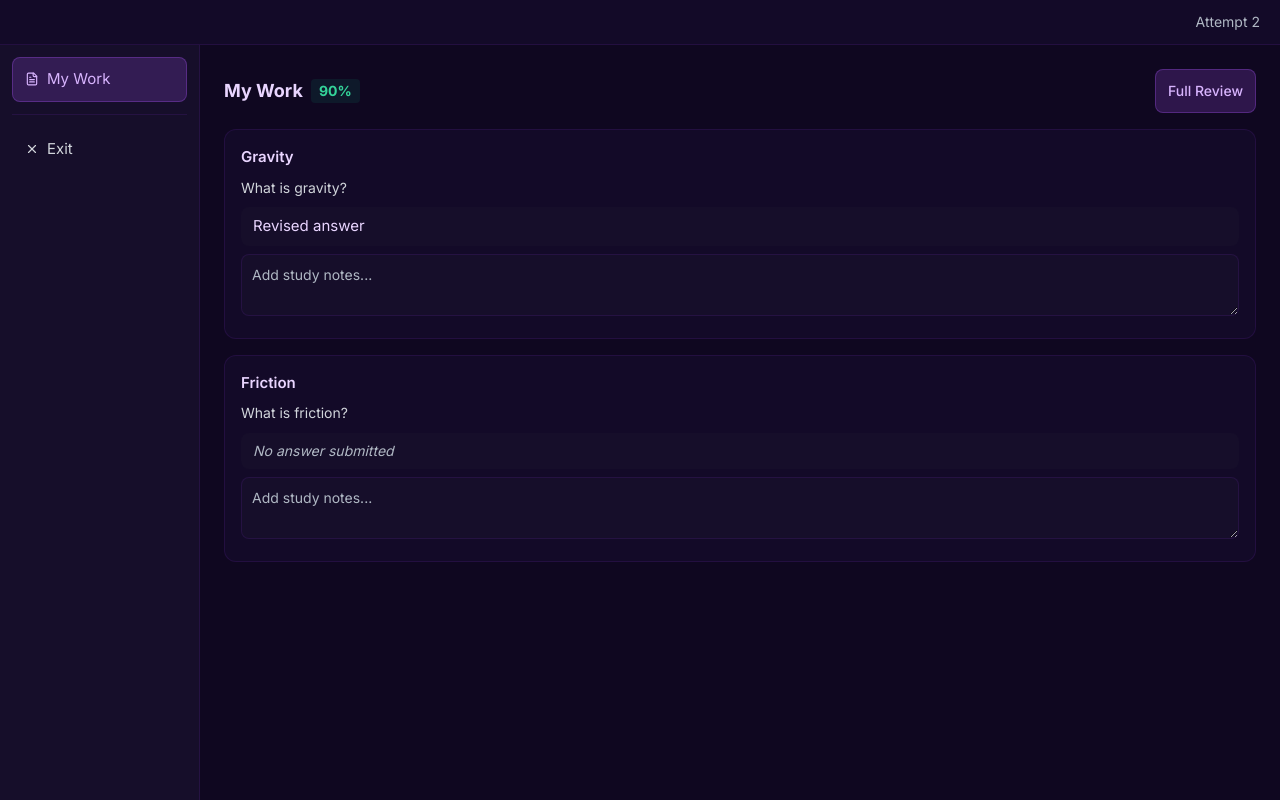
Test: MyWorkPanel attempt selector › shows "No answer submitted" for blocks unanswered in the selected attempt
Click the button "My Work" at x=100, y=79, box x1=12 y1=57 x2=187 y2=102
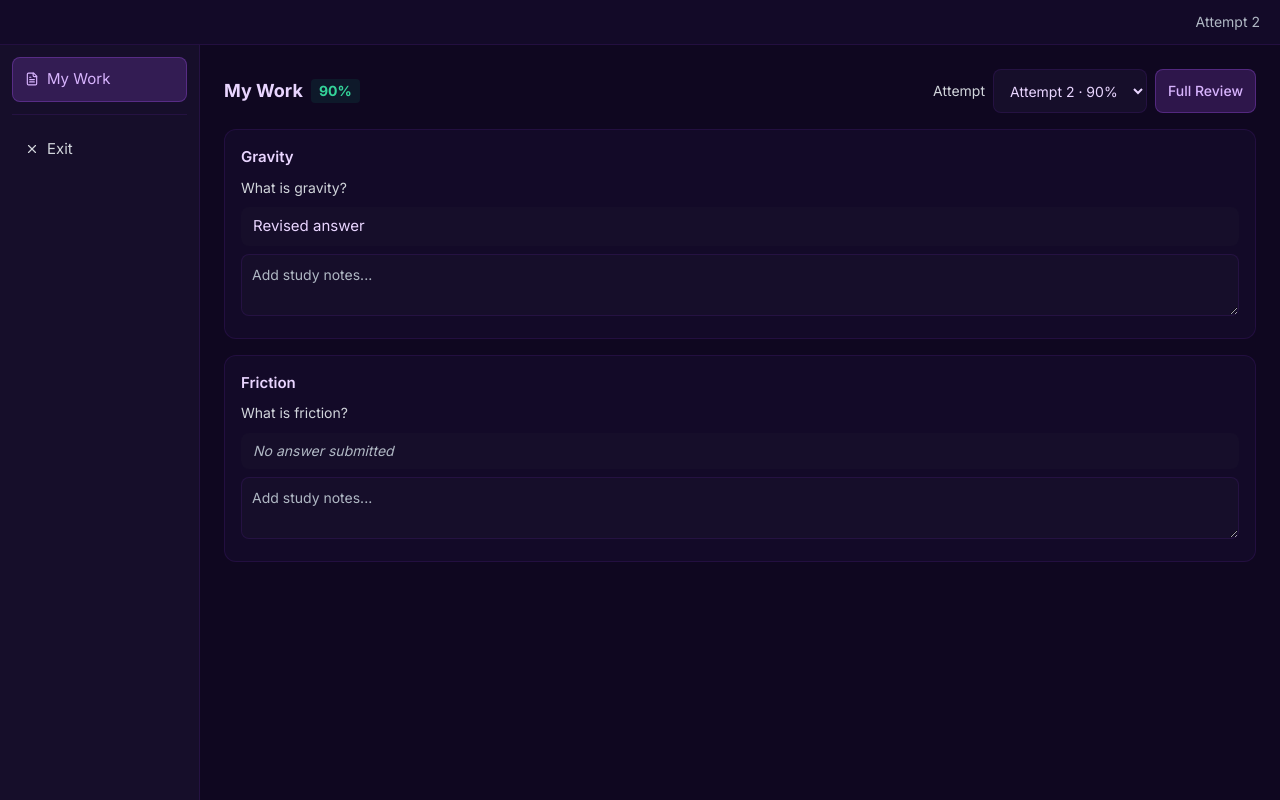
Expected: the text "Revised answer" is shown, x1=253 y1=216 x2=365 y2=235
Select "Attempt 1 · 55%" in the dropdown at x=1070, y=91, box x1=993 y1=69 x2=1147 y2=113
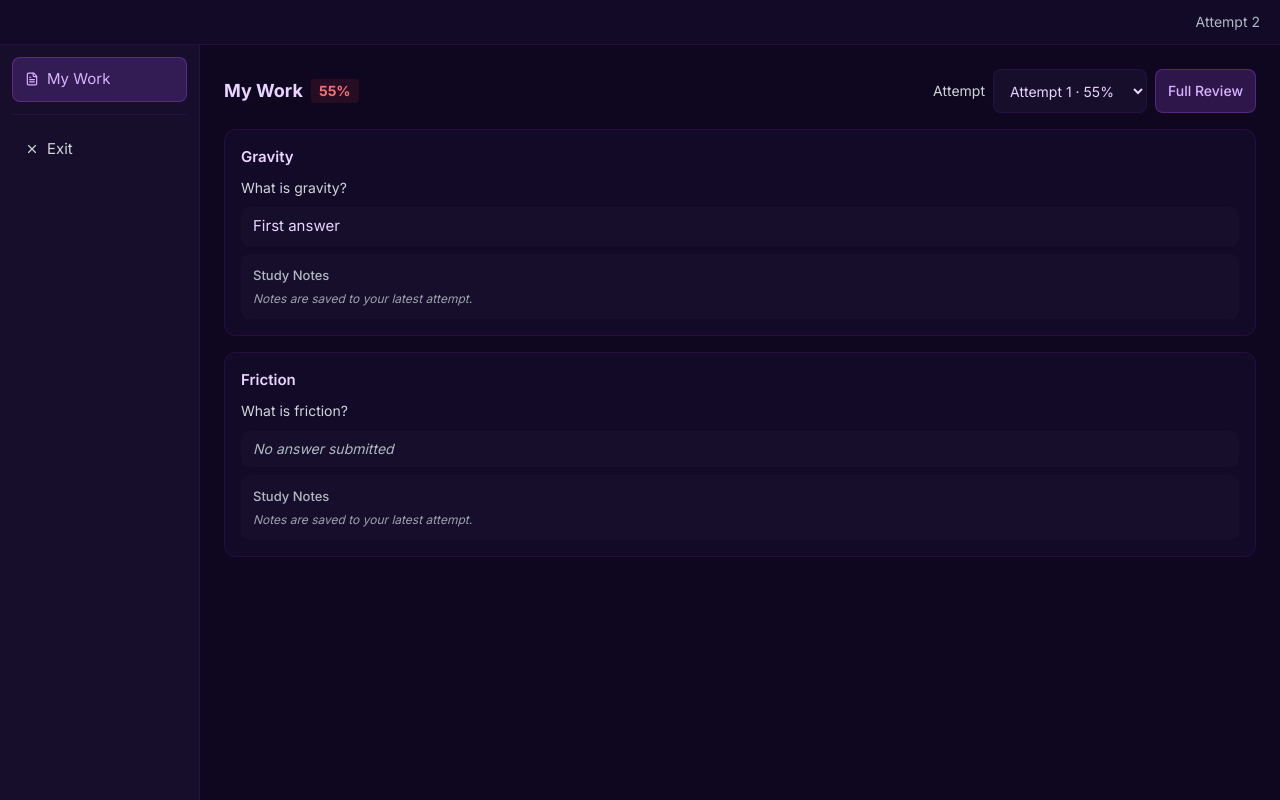
Expected: the text "No answer submitted" is shown, x1=253 y1=440 x2=394 y2=456
Expected: the text "First answer" is shown, x1=253 y1=216 x2=340 y2=235
